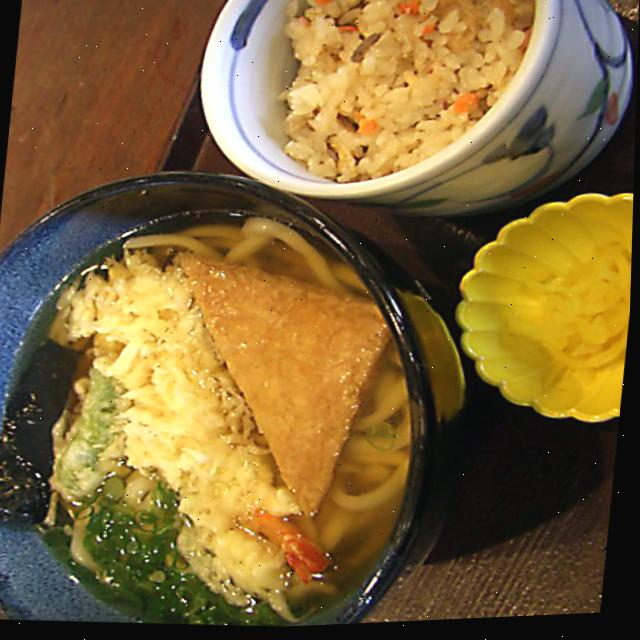面条主食: (0, 188, 441, 640)
